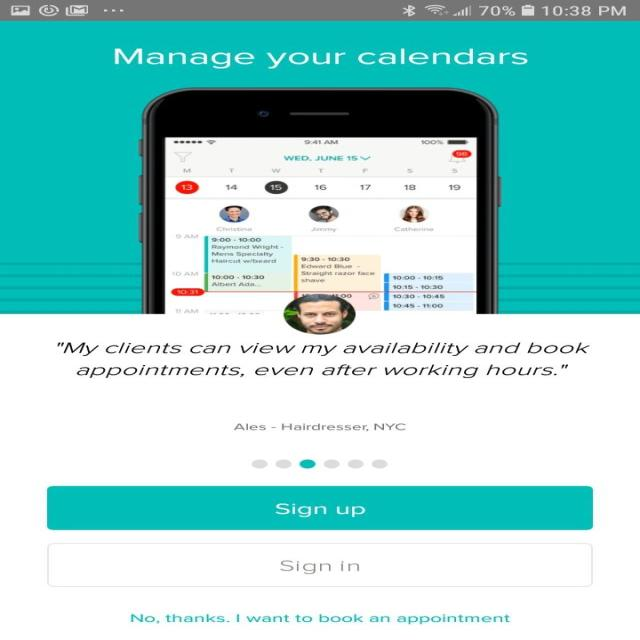Image: (138, 87, 502, 314), (282, 294, 356, 334)
Text: (57, 342, 590, 378), (113, 48, 528, 69), (130, 613, 510, 624), (232, 422, 406, 432)
TextButton: (46, 486, 592, 530), (47, 542, 592, 586)
